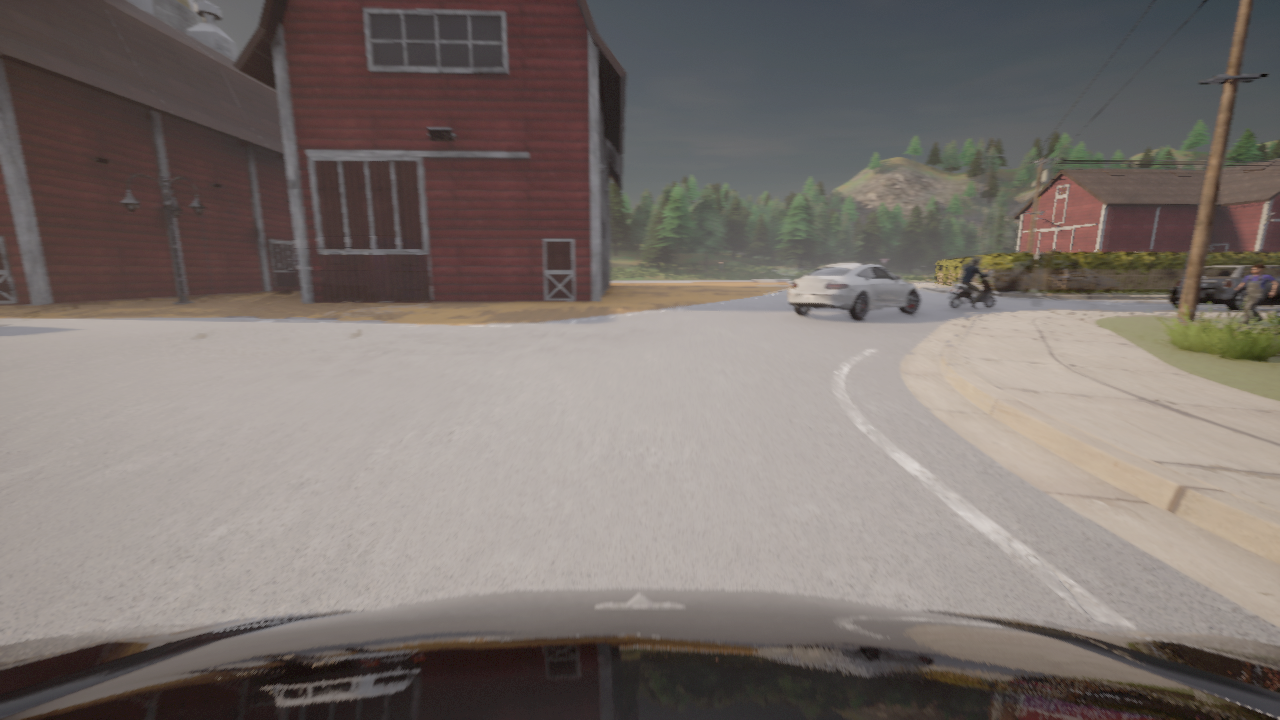cyclist: (0, 588, 1279, 719), (788, 262, 920, 319), (1168, 265, 1279, 311), (947, 271, 996, 309)
pedestrian: (1235, 264, 1277, 324)
